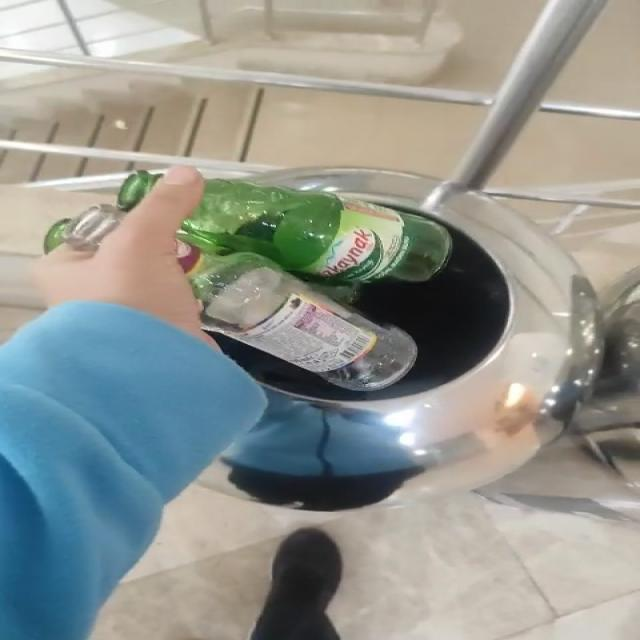glass: (177, 180, 452, 391), (44, 171, 161, 252)
